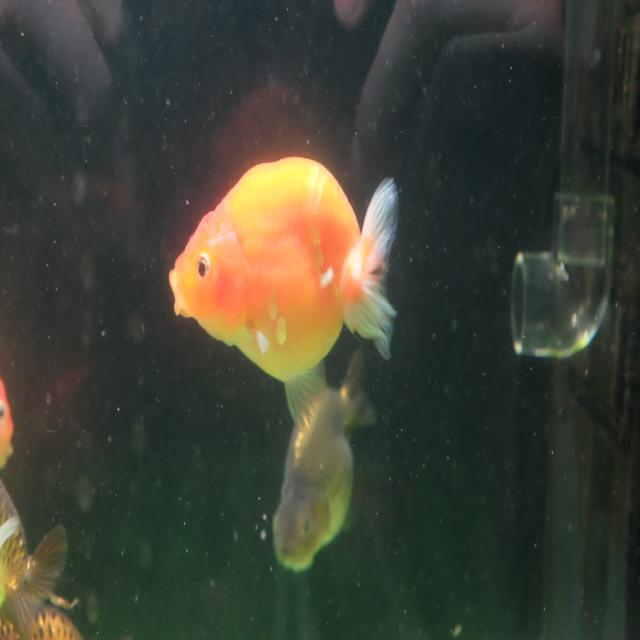Goldfish: (167, 156, 398, 441), (272, 344, 378, 574)
